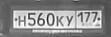license-plateSW: (12, 9, 103, 29)
